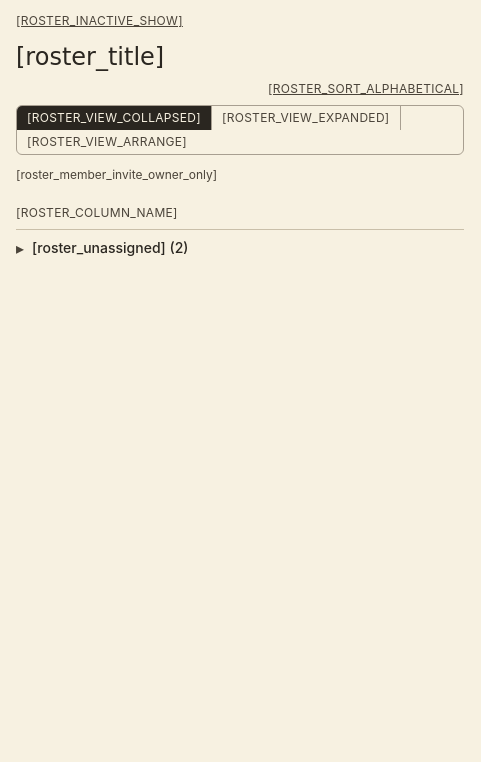
Test: (#283) phone guard — letters refuse the save; + and friends survive (name-required idiom) › 'õhtul helistada' is refused — Estonian letters are letters (a /[a-z]/i check would pass õäöü)
The width and height of the screenshot is (481, 762).
Step 1. Click the button "▸ [roster_unassigned] (2)" → (110, 248), box x1=16 y1=230 x2=464 y2=266
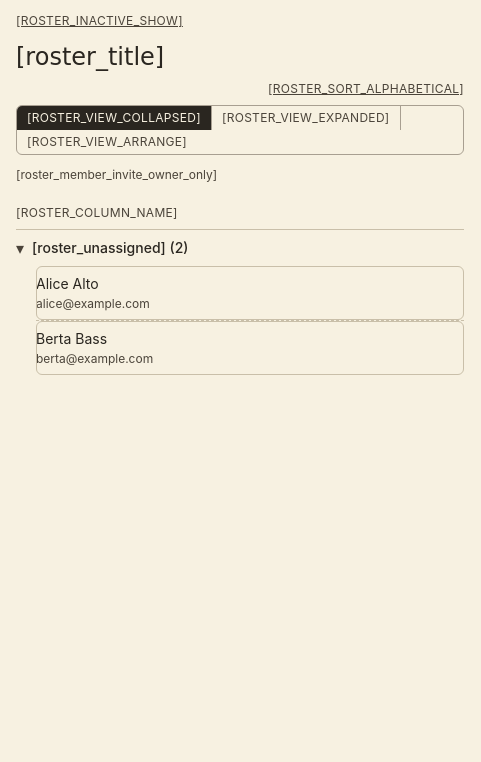
Step 2. Click the button without text next to "berta@example.com" → (250, 348), box x1=36 y1=321 x2=464 y2=375
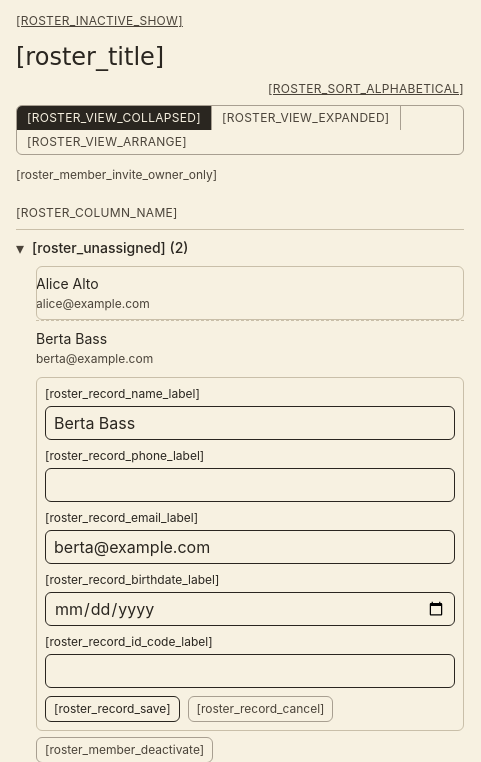
Expected: the field with test id "roster-record-name" is shown, x1=45 y1=406 x2=455 y2=440
Step 3. Type "õhtul helistada" into the field with test id "roster-record-phone" → (250, 485), box x1=45 y1=468 x2=455 y2=502
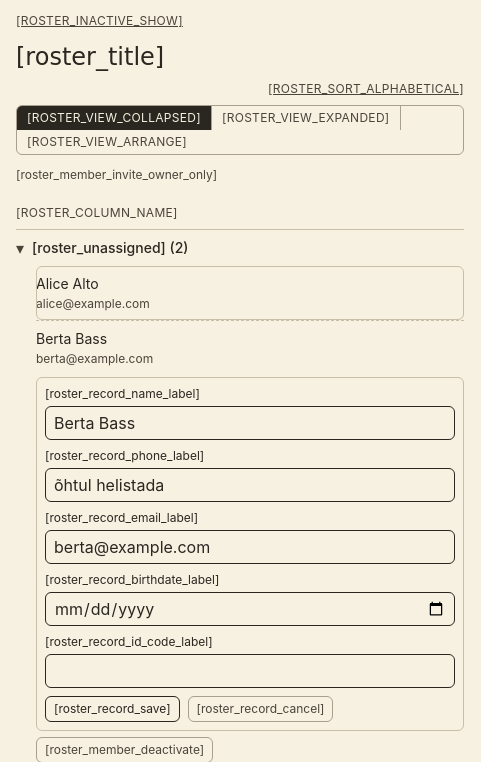
Step 4. Click the button "[roster_record_save]" → (112, 709), box x1=45 y1=696 x2=180 y2=722
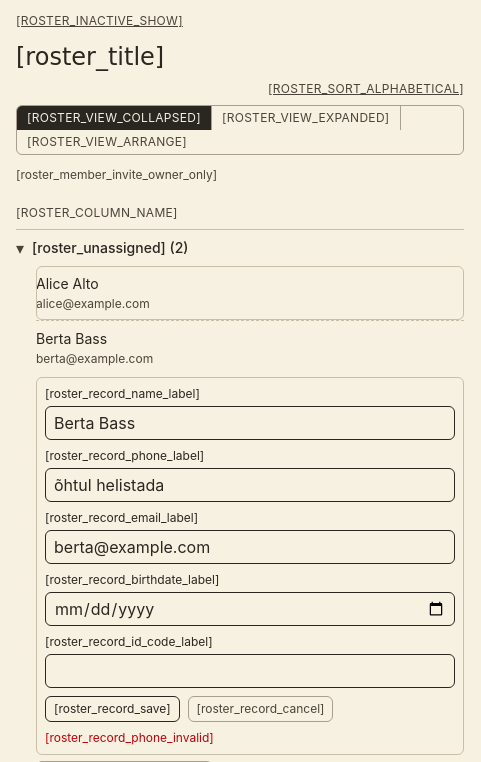
Expected: the message "[roster_record_phone_invalid]" is shown, x1=45 y1=730 x2=214 y2=745
